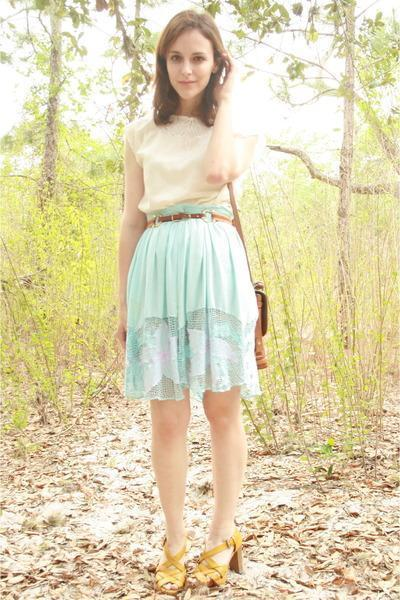bag: (228, 204, 267, 347)
shirt: (109, 108, 233, 222)
shoe: (159, 529, 260, 593)
skirt: (123, 213, 263, 413)
